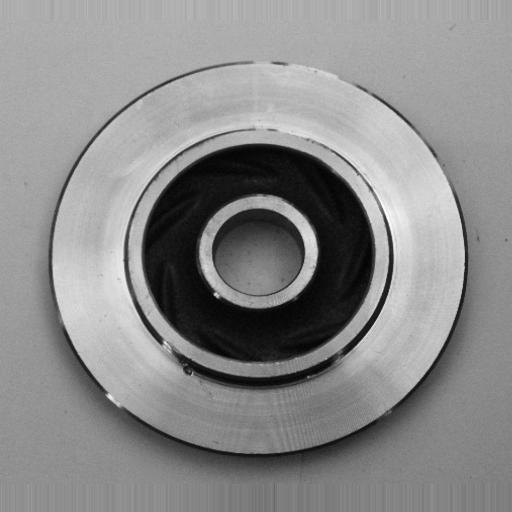crack: (175, 354, 200, 380)
scratch: (248, 114, 329, 148), (95, 380, 137, 415), (150, 322, 181, 358)
unpolished_casting: (45, 60, 477, 459)
